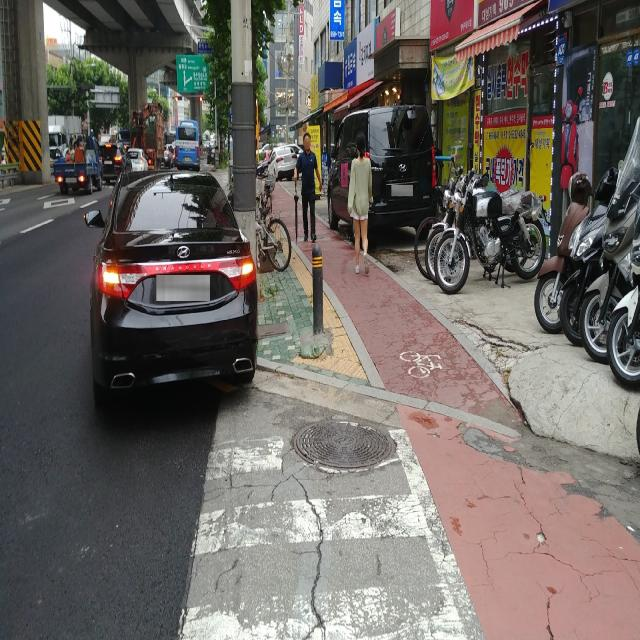횡단보도: (176, 431, 473, 640)
